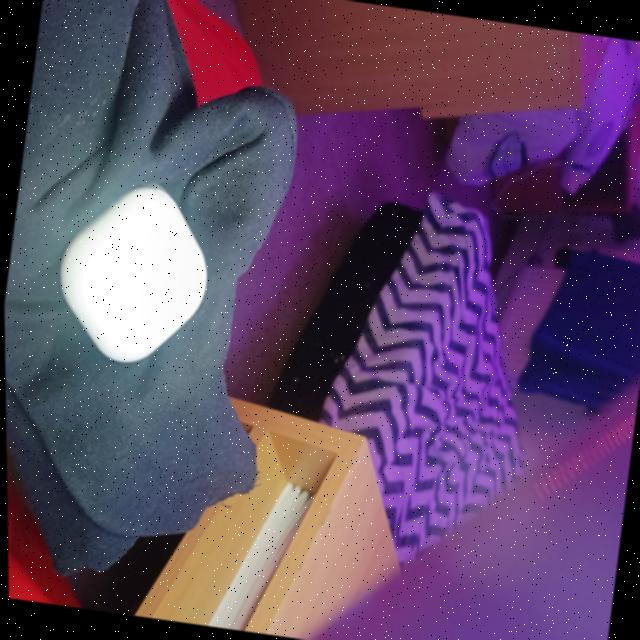headphones: (59, 186, 205, 362)
